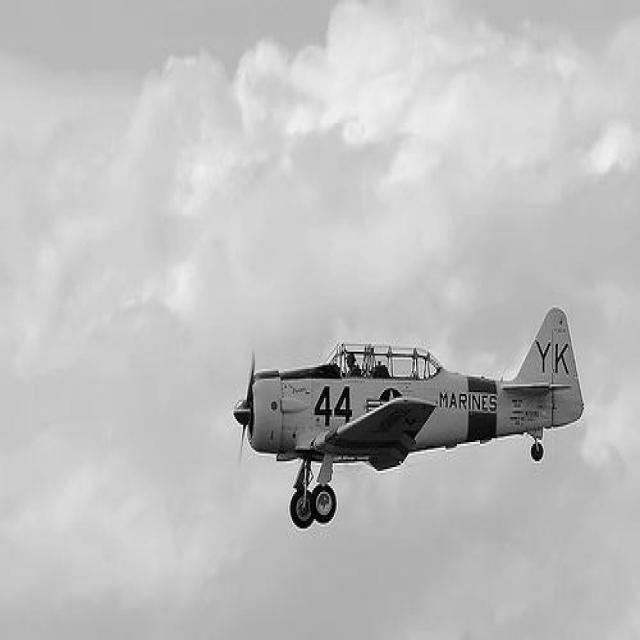aeroplane: (236, 306, 584, 530)
